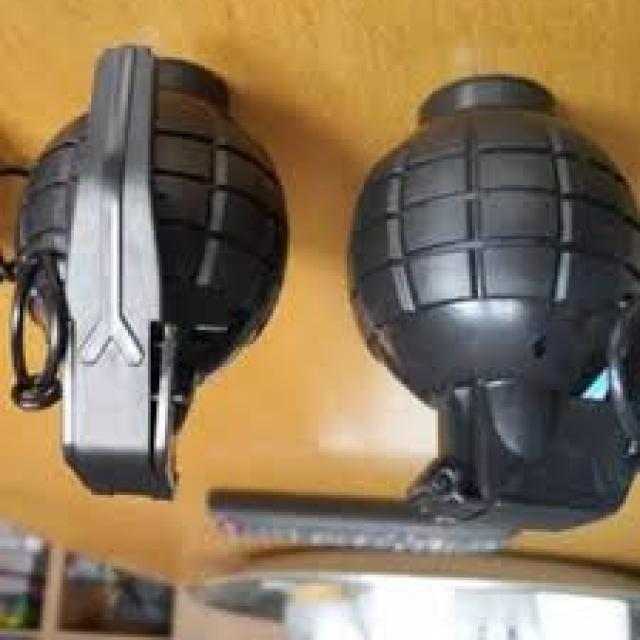grenade: (338, 60, 640, 543), (1, 34, 304, 505)
